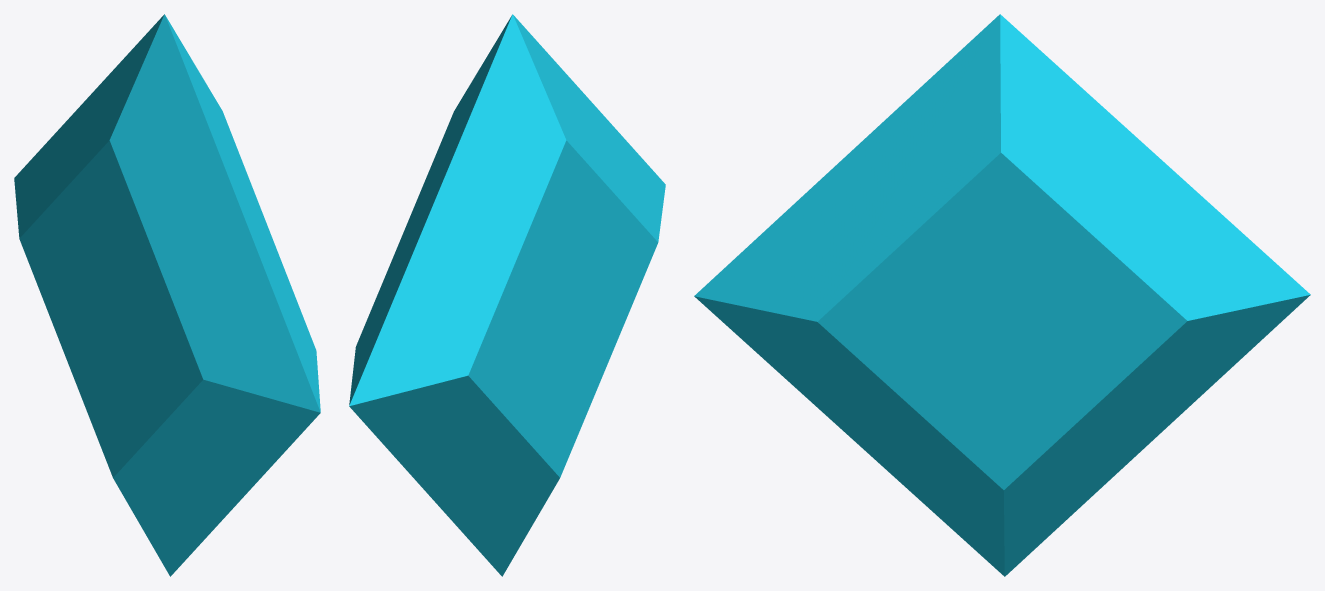
The picture shows the model from 3 angles, left to right: view 1: azimuth 30°, elevation 25°; view 2: azimuth 150°, elevation 25°; view 3: azimuth 270°, elevation 25°; orthographic projection.
Visible parts, largest first — view 1: Plane; view 2: Plane; view 3: Plane.
Boxes of the visible parts, x1,y1,x2,y2 form: Plane: (14, 14, 320, 576); Plane: (349, 14, 665, 576); Plane: (694, 14, 1310, 576).
Bounding box in the file's own units: 0.6162 × 2.83 × 2.83.
